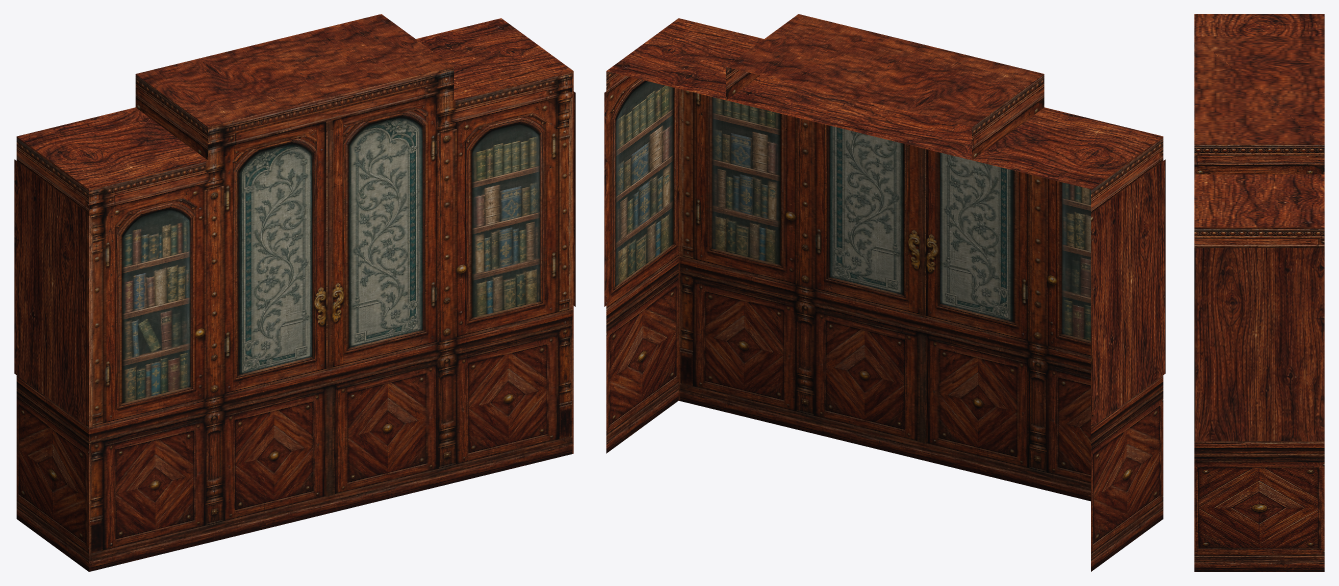
Rendered from mm9_deco_cabinet02.glb.
3 views of the same model, side by side, from view 1: azimuth 30°, elevation 25°; view 2: azimuth 150°, elevation 25°; view 3: azimuth 270°, elevation 25° (orthographic). The views are drawn at different scales.
Visible parts, largest first — view 1: Cabinet02; view 2: Cabinet02; view 3: Cabinet02.
Boxes of the visible parts, box(x1,y1,x2,y2) form: Cabinet02: box(14, 14, 575, 571); Cabinet02: box(604, 14, 1165, 571); Cabinet02: box(1194, 14, 1324, 571).
Size of the model in its own units: 4.01 by 3.26 by 1.03.
Materials: 1 (1 with a texture image).
